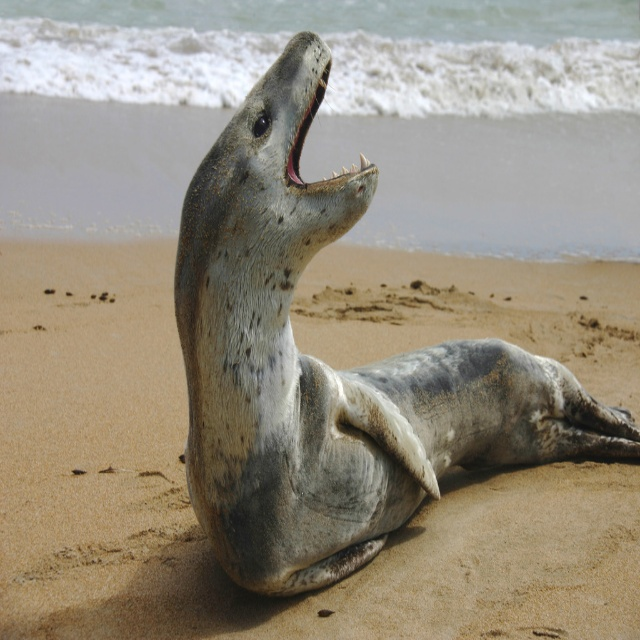Harbor seal: (168, 59, 614, 595)
